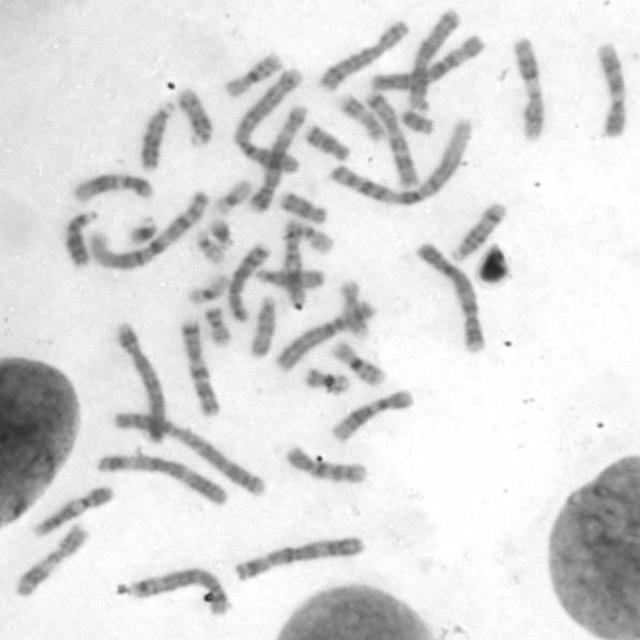A1: (327, 114, 474, 207), (87, 185, 212, 272)
A2: (105, 406, 266, 496), (228, 66, 305, 174)
A3: (94, 450, 230, 507), (230, 530, 367, 584)
B4: (412, 237, 488, 356), (111, 318, 170, 446)
B5: (245, 101, 310, 214), (125, 562, 234, 617)
C10: (281, 442, 368, 486), (280, 219, 310, 312)
C11: (11, 518, 90, 598), (508, 34, 547, 142)
C12: (328, 384, 417, 443), (68, 168, 156, 203)
C6: (272, 298, 377, 373), (365, 29, 487, 92)
C7: (360, 85, 420, 191), (176, 315, 222, 417)
C8: (316, 16, 410, 92), (223, 238, 270, 324)
C9: (29, 480, 117, 539), (591, 37, 630, 138)
D13: (135, 96, 178, 172), (60, 207, 99, 269)
D14: (448, 198, 508, 263), (173, 84, 215, 147)
D15: (245, 292, 279, 358), (250, 262, 326, 291)
E16: (220, 48, 282, 98), (328, 336, 388, 387)
E17: (333, 89, 385, 143), (336, 275, 372, 338)
E18: (301, 119, 351, 162), (276, 188, 329, 225)
F19: (208, 174, 254, 217), (182, 268, 232, 306)
F20: (300, 363, 350, 394), (200, 302, 233, 346)
G21: (125, 210, 158, 247), (206, 214, 237, 249)
G22: (290, 218, 335, 255), (191, 228, 227, 266)
X: (406, 9, 466, 108)
Y: (397, 105, 437, 135)
